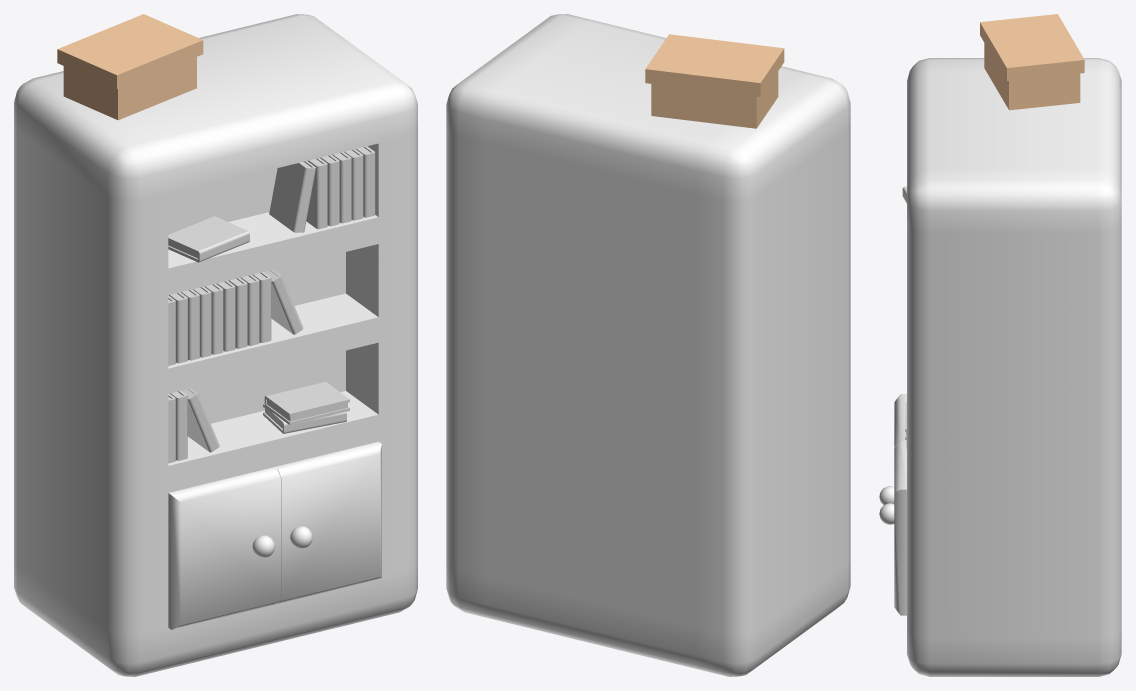
The model's file is test_bookcase1.fbx.
The picture shows the model from 3 angles, left to right: view 1: azimuth 30°, elevation 25°; view 2: azimuth 150°, elevation 25°; view 3: azimuth 270°, elevation 25°; orthographic projection. The views are drawn at different scales.
Visible parts, largest first — view 1: Cube.026, Cube.027, book.020, book.007, book.006, book.023, book.014, book.005, book.001, book.002, book.004, book.003 (+10 smaller); view 2: Cube.026, Cube.027; view 3: Cube.026, Cube.027.
Boxes of the visible parts, x1,y1,x2,y2 form: Cube.026: (14, 14, 417, 676); Cube.027: (57, 14, 203, 120); book.020: (264, 381, 349, 424); book.007: (269, 161, 316, 232); book.006: (168, 216, 249, 262); book.023: (182, 388, 219, 452); book.014: (264, 269, 303, 334); book.005: (306, 158, 327, 229); book.001: (356, 146, 375, 217); book.002: (344, 149, 363, 220); book.004: (320, 155, 339, 226); book.003: (332, 152, 351, 223); Cube.026: (446, 14, 850, 676); Cube.027: (645, 34, 784, 128); Cube.026: (879, 58, 1121, 676); Cube.027: (980, 14, 1084, 110).
Bounding box in the file's own units: 230 × 412 × 168.
